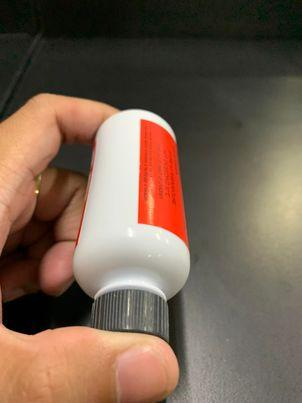-Bottle-: (72, 108, 191, 343)
